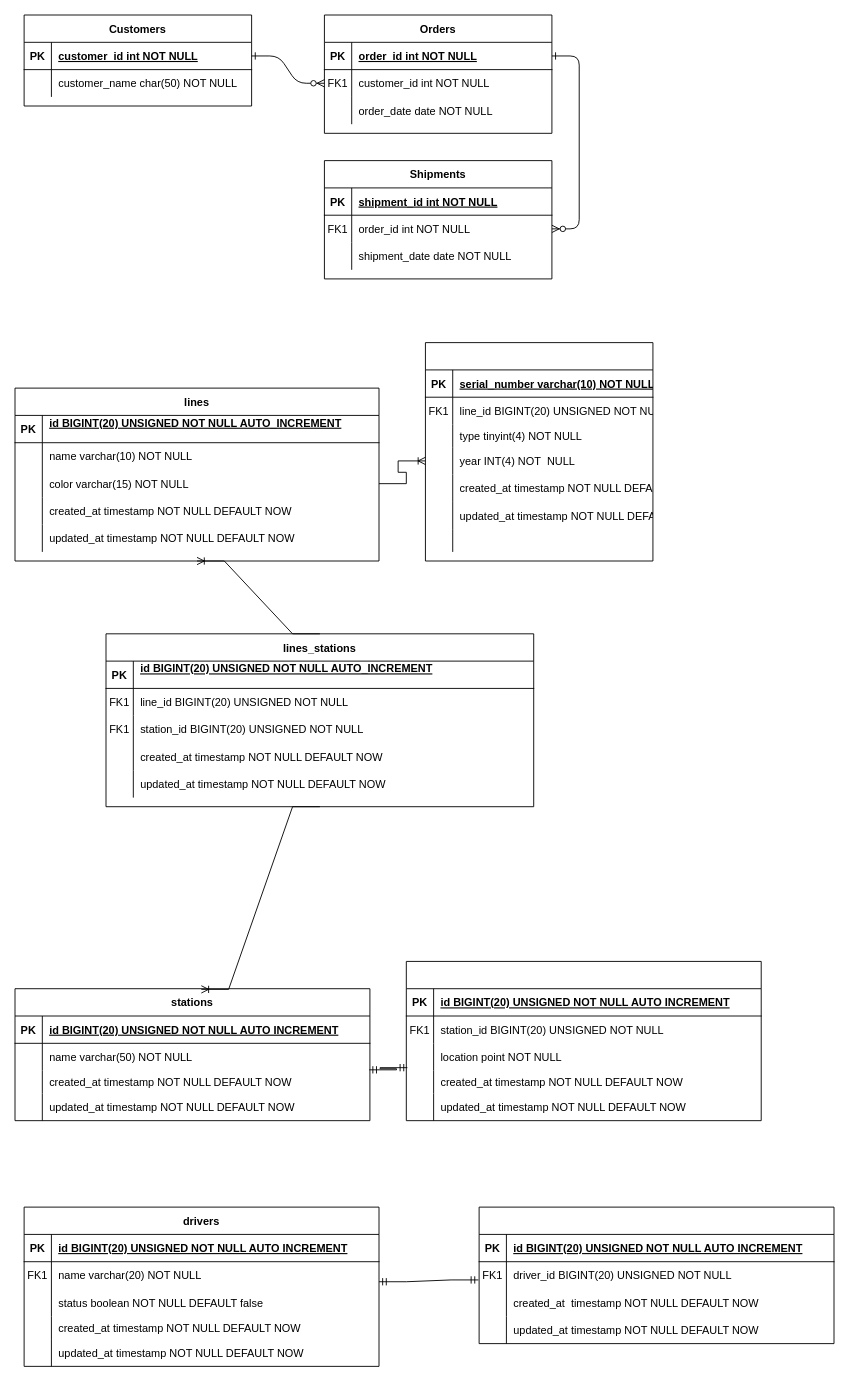
The diagram is 849 pixels wide and 1381 high, and some of its shapes have lost their labels. Each missing label, with the box of its shape:
active_drivers: (478, 1206, 834, 1344)
locations: (405, 961, 761, 1121)
trains: (425, 342, 653, 561)
